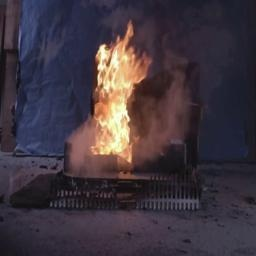fire: (84, 18, 156, 167)
